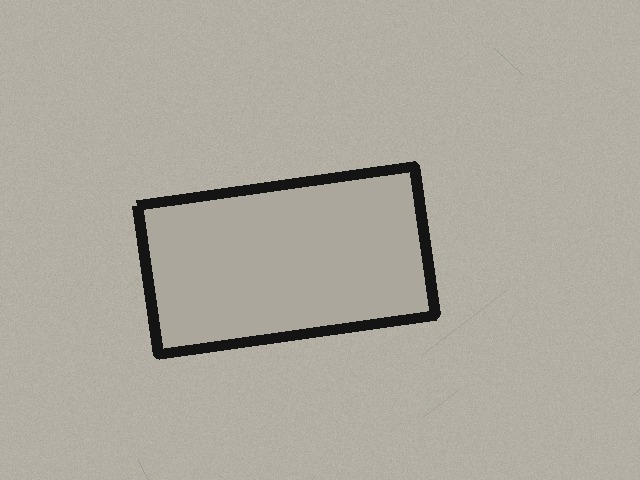parking_area: (137, 166, 435, 354)
